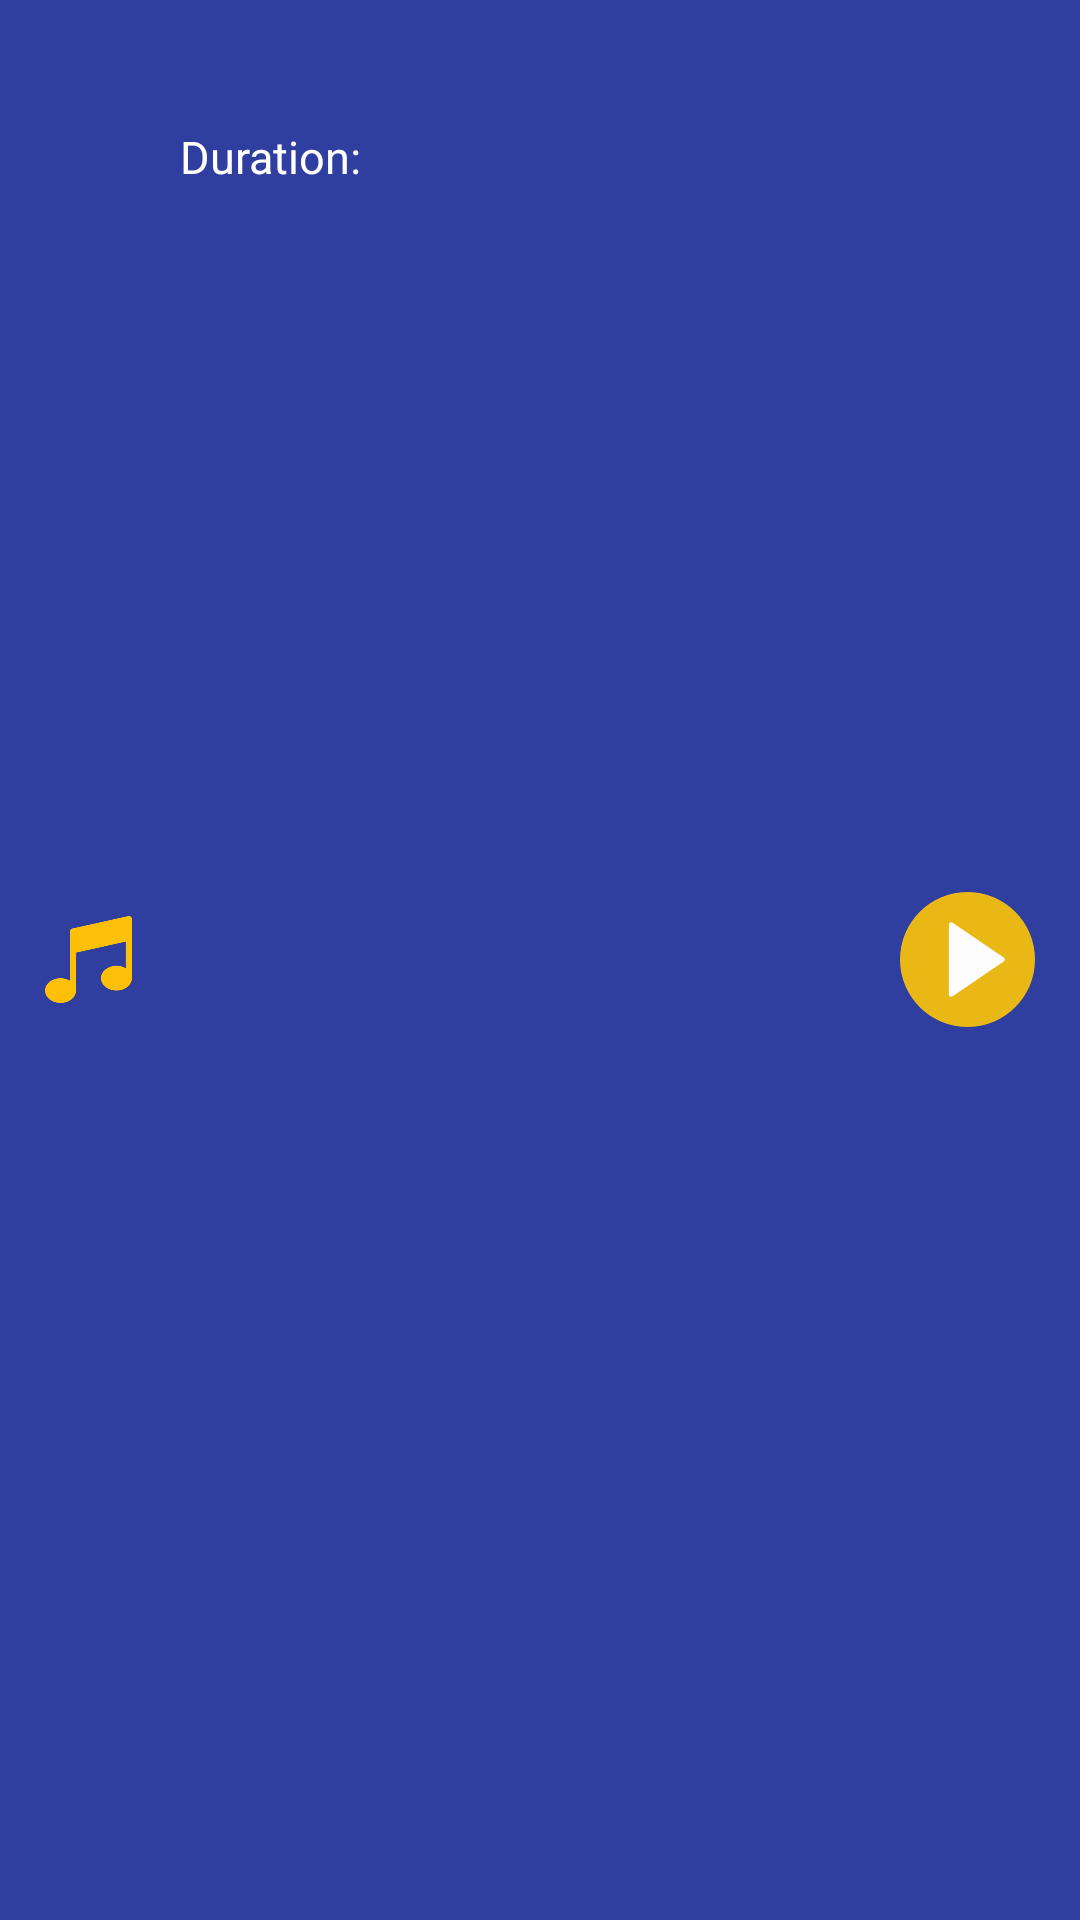

Where to tap for icons on this 1080x1920 app screen, as [x,y]:
musical note standalone: [88,959]
play: [967,959]
